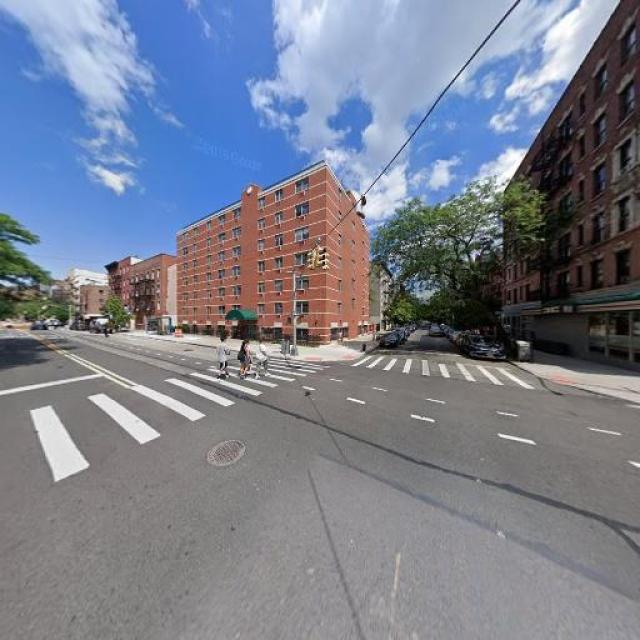Building: (507, 1, 640, 360), (182, 162, 370, 345)
